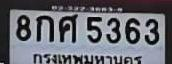3: (105, 17, 120, 42), (144, 18, 158, 44)
5: (86, 16, 101, 42)
6: (124, 17, 139, 43)
8: (15, 14, 30, 40)
A01: (35, 14, 53, 41)
A38: (58, 13, 77, 42)
BKK: (31, 52, 144, 64)
